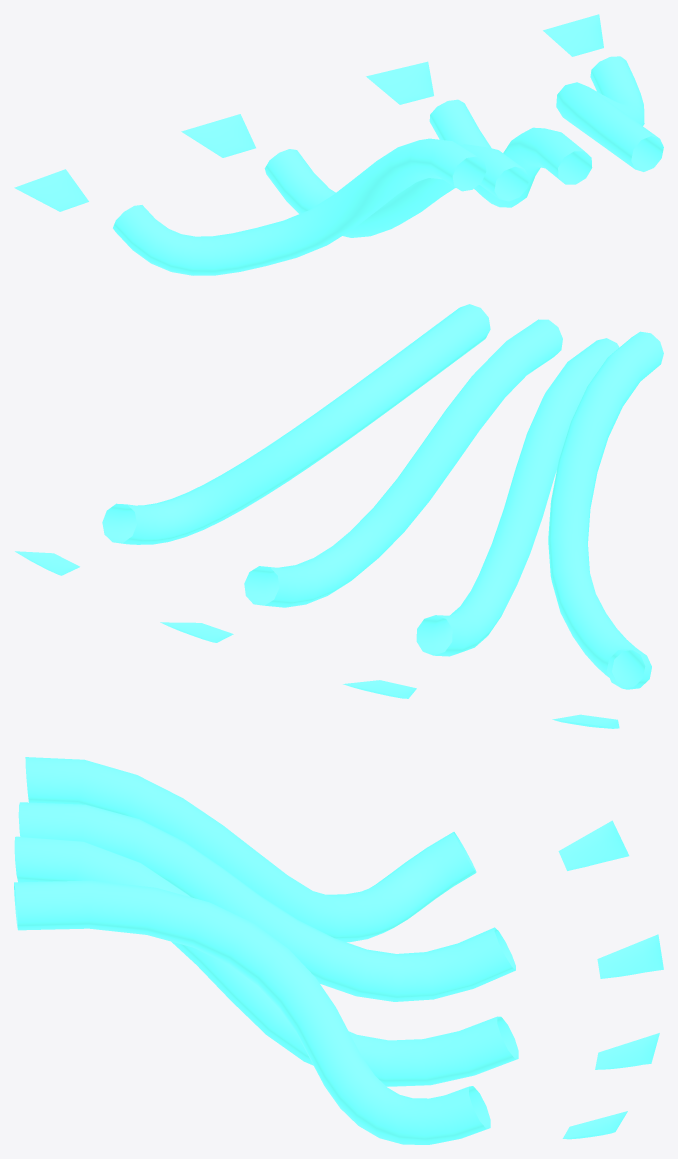
File: omnihandcharges.glb
The picture shows the model from 3 angles, top to bottom: view 1: azimuth 30°, elevation 25°; view 2: azimuth 150°, elevation 25°; view 3: azimuth 270°, elevation 25°; orthographic projection. The views are drawn at different scales.
Parts seen in each view (by area): view 1: Object_31.001, Object_31.002, Object_31.004, Object_31.003; view 2: Object_31.004, Object_31.003, Object_31.001, Object_31.002; view 3: Object_31.004, Object_31.002, Object_31.001, Object_31.003.
Boxes of the visible parts, bbox=[...] form: Object_31.001: bbox=[14, 138, 486, 275]; Object_31.002: bbox=[181, 114, 529, 237]; Object_31.004: bbox=[543, 14, 663, 171]; Object_31.003: bbox=[366, 61, 592, 207]; Object_31.004: bbox=[15, 304, 490, 575]; Object_31.003: bbox=[160, 319, 562, 642]; Object_31.001: bbox=[548, 331, 663, 728]; Object_31.002: bbox=[343, 338, 619, 698]; Object_31.004: bbox=[14, 880, 627, 1144]; Object_31.002: bbox=[18, 802, 663, 1001]; Object_31.001: bbox=[25, 757, 629, 942]; Object_31.003: bbox=[14, 836, 659, 1086].
Bounding box in the file's own units: 2.05 × 0.6546 × 1.62.
